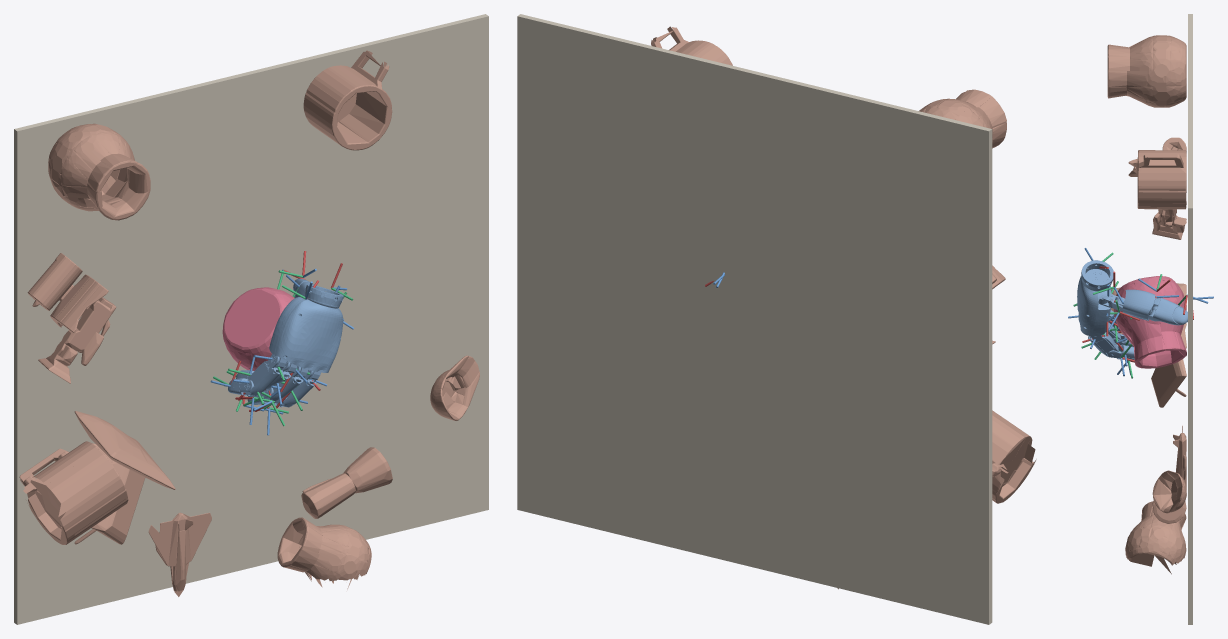
The picture shows the model from 3 angles, left to right: view 1: azimuth 30°, elevation 25°; view 2: azimuth 150°, elevation 25°; view 3: azimuth 270°, elevation 25°; orthographic projection. The views are drawn at different scales.
Parts seen in each view (by area): view 1: environment, hand, local_object_005, local_object_003, local_object_008, local_object_007, target_object, local_object_006, local_object_009, local_object_010, local_object_002, local_object_000 (+2 smaller); view 2: environment, local_object_003, local_object_005, local_object_008; view 3: local_object_005, hand, target_object, environment, local_object_008, local_object_007, local_object_004, local_object_001, local_object_002, local_object_010, local_object_006, local_object_009.
Part boxes in pixels (x1,y1,x2,y2): environment: [14, 14, 488, 624]; hand: [228, 278, 343, 407]; local_object_005: [48, 123, 150, 220]; local_object_003: [19, 441, 128, 544]; local_object_008: [303, 50, 392, 150]; local_object_007: [277, 517, 371, 589]; target_object: [222, 287, 294, 370]; local_object_006: [27, 253, 108, 332]; local_object_009: [301, 447, 392, 518]; local_object_010: [148, 512, 211, 596]; local_object_002: [38, 297, 116, 383]; local_object_000: [74, 411, 175, 489]; environment: [517, 14, 992, 624]; local_object_003: [992, 410, 1036, 503]; local_object_005: [919, 89, 1006, 148]; local_object_008: [651, 26, 732, 65]; local_object_005: [1107, 35, 1186, 107]; hand: [1077, 260, 1187, 359]; target_object: [1113, 276, 1186, 368]; environment: [1188, 14, 1192, 624]; local_object_008: [1137, 150, 1186, 209]; local_object_007: [1125, 501, 1186, 574]; local_object_004: [1152, 470, 1186, 513]; local_object_001: [1151, 323, 1186, 407]; local_object_002: [1152, 209, 1186, 239]; local_object_010: [1173, 425, 1186, 487]; local_object_006: [1128, 137, 1186, 204]; local_object_009: [1152, 501, 1186, 523].
Bounding box in the file's own units: 0.7073 × 0.7416 × 0.2221.
